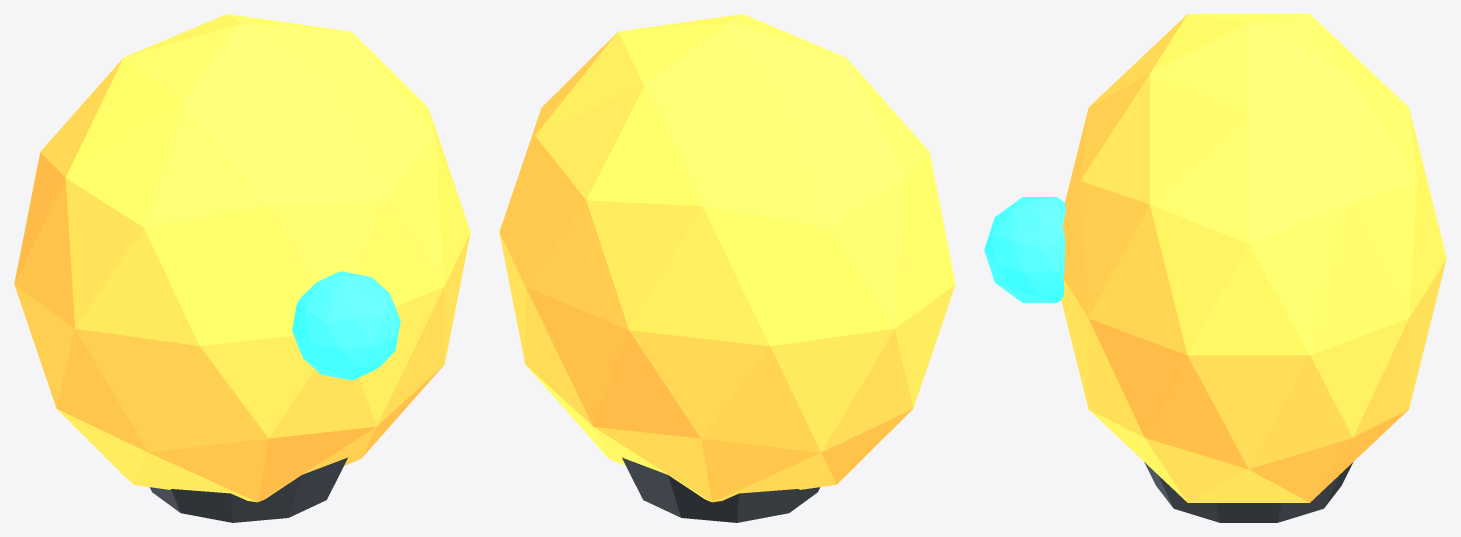
The model's file is item_bulls_core.glb.
The picture shows the model from 3 angles, left to right: view 1: azimuth 30°, elevation 25°; view 2: azimuth 150°, elevation 25°; view 3: azimuth 270°, elevation 25°; orthographic projection.
Visible parts, largest first — view 1: Faceted bull core, Bull core eye, Core lower socket; view 2: Faceted bull core, Core lower socket; view 3: Faceted bull core, Bull core eye, Core lower socket.
Boxes of the visible parts, x1,y1,x2,y2 form: Faceted bull core: (14,14,470,502); Bull core eye: (292,271,400,380); Core lower socket: (149,457,347,522); Faceted bull core: (499,14,955,502); Core lower socket: (622,457,820,522); Faceted bull core: (1061,14,1446,502); Bull core eye: (984,197,1065,302); Core lower socket: (1144,462,1352,522).
Bounding box in the file's own units: 0.0989 × 0.1123 × 0.0996.
